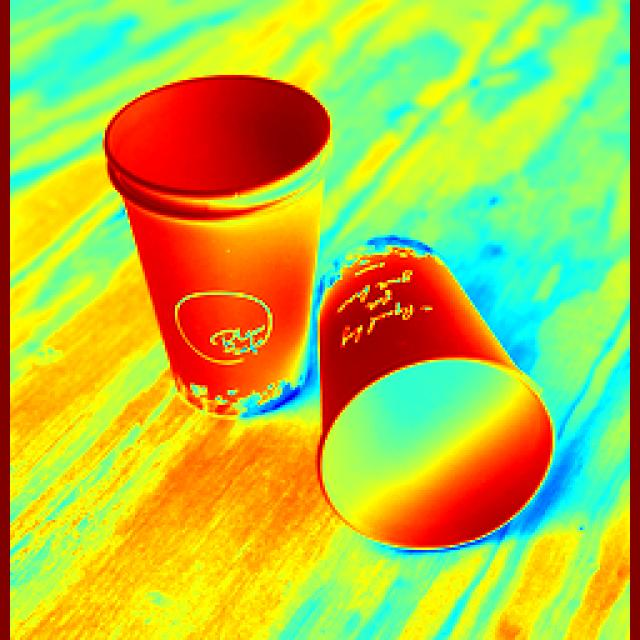Paper Cups: (296, 238, 556, 560), (106, 74, 320, 432)
